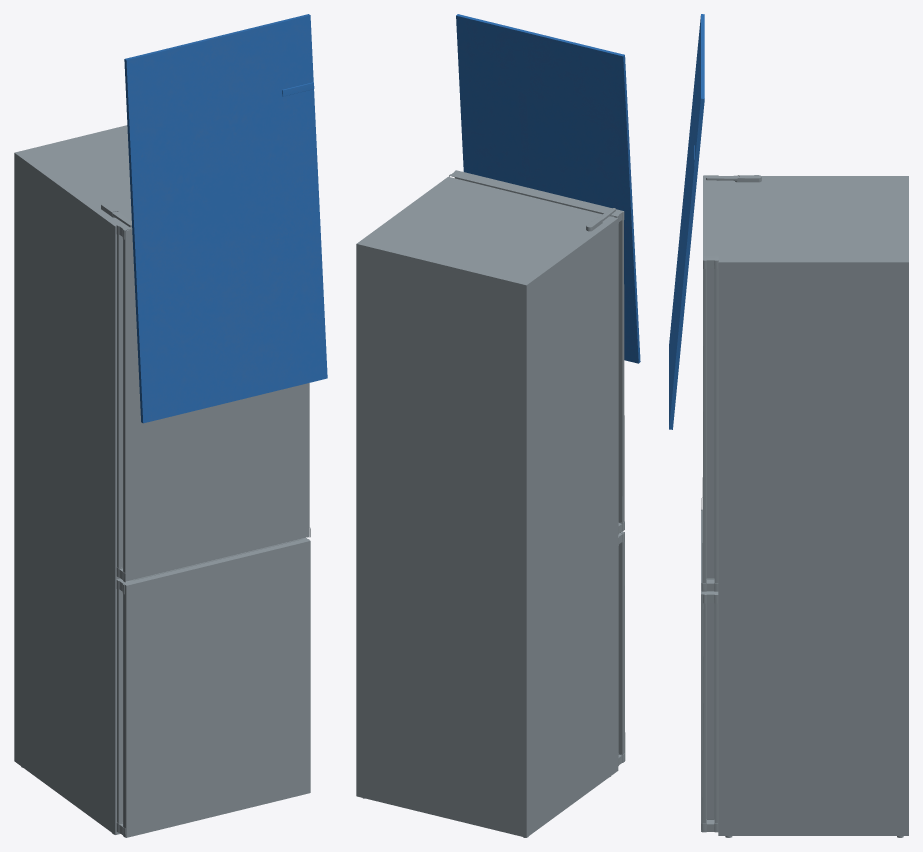
Rendered from vario.glb.
3 views of the same model, side by side, from view 1: azimuth 30°, elevation 25°; view 2: azimuth 150°, elevation 25°; view 3: azimuth 270°, elevation 25° (orthographic). The views are drawn at different scales.
Parts seen in each view (by area): view 1: Bosch_body, Bosch_Color Bosch_Color; view 2: Bosch_body, Bosch_Color Bosch_Color; view 3: Bosch_body, Bosch_Color Bosch_Color.
Boxes of the visible parts, x1,y1,x2,y2 form: Bosch_body: (14, 125, 310, 837); Bosch_Color Bosch_Color: (124, 14, 327, 423); Bosch_body: (356, 170, 625, 837); Bosch_Color Bosch_Color: (456, 14, 640, 363); Bosch_body: (701, 175, 908, 837); Bosch_Color Bosch_Color: (669, 14, 704, 429).
Bounding box in the file's own units: 59.68 × 239 × 70.16.
Materials: 1 (1 with a texture image).
